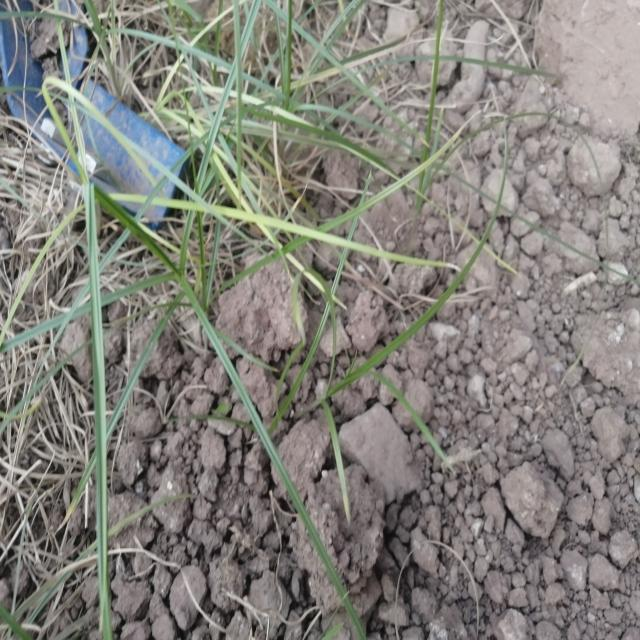sedge: (0, 137, 355, 577)
